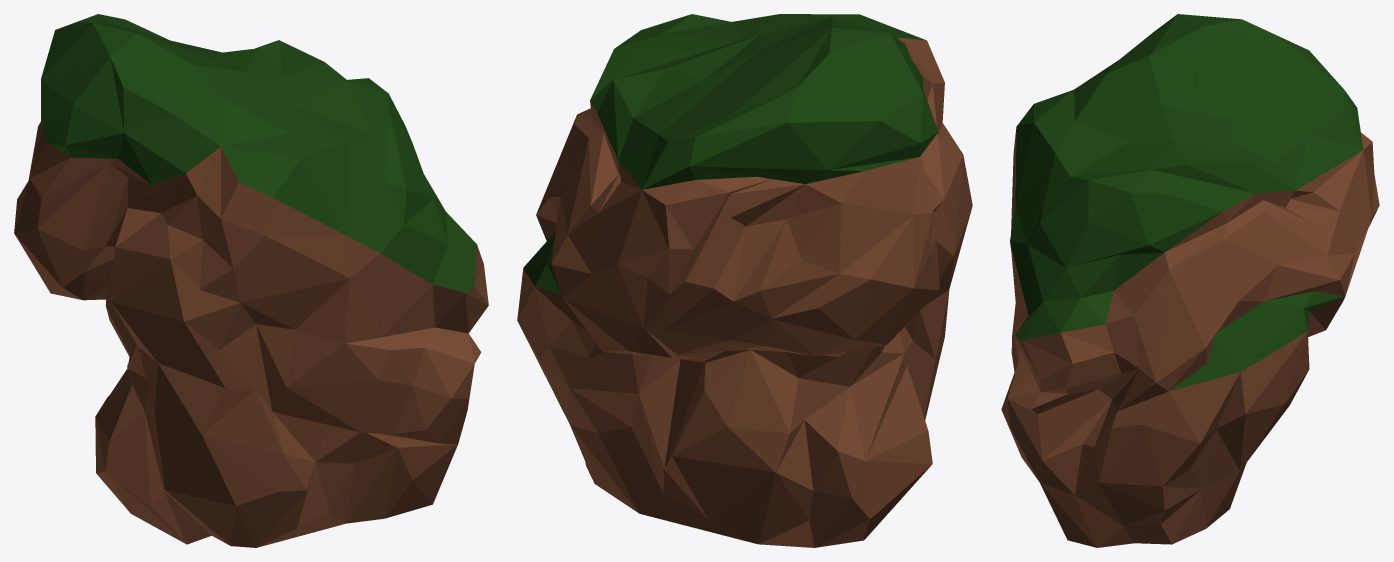
File: SM_cliff_grass_02.fbx
3 renders of one model, left to right at view 1: azimuth 30°, elevation 25°; view 2: azimuth 150°, elevation 25°; view 3: azimuth 270°, elevation 25°, orthographic. The views are drawn at different scales.
Parts seen in each view (by area): view 1: cliff_grass_02; view 2: cliff_grass_02; view 3: cliff_grass_02.
Part boxes in pixels (x1,y1,x2,y2): cliff_grass_02: (14, 14, 488, 547); cliff_grass_02: (517, 14, 972, 547); cliff_grass_02: (1001, 14, 1379, 547).
Bounding box in the file's own units: 1967 × 2377 × 1918.
